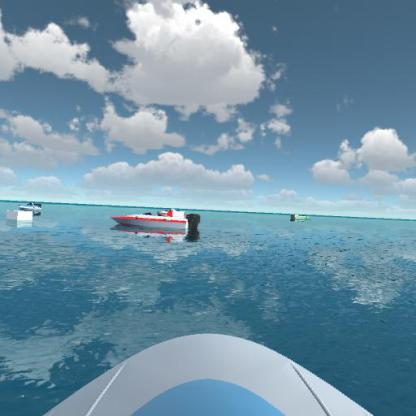usv0: (288, 209, 315, 224)
usv1: (16, 200, 43, 215)
usv3: (106, 203, 204, 244)
